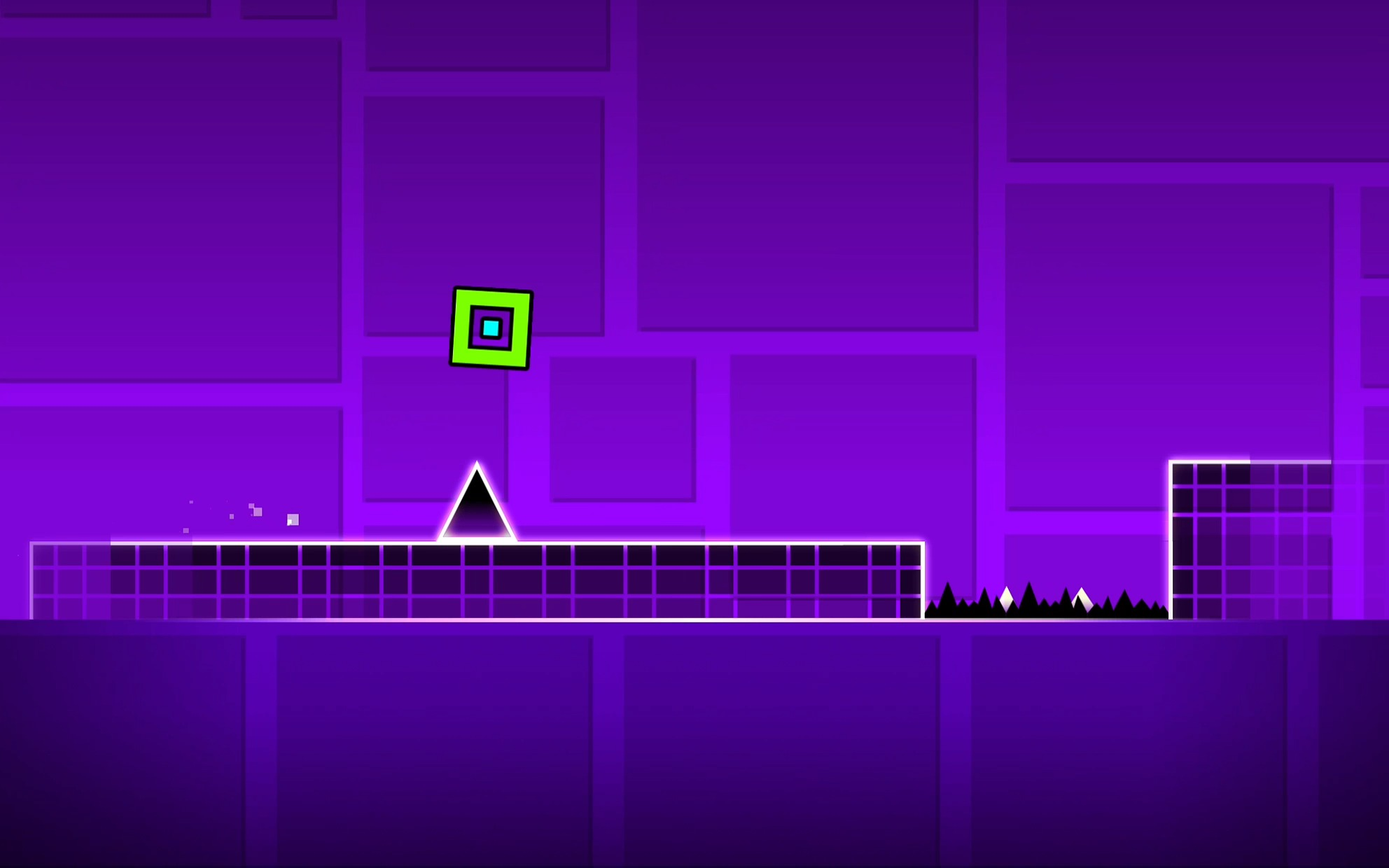Block2: (27, 540, 923, 616), (1167, 462, 1336, 616)
Player: (449, 287, 533, 368)
Spike: (438, 461, 515, 538)
Spike3: (926, 583, 1167, 621)
